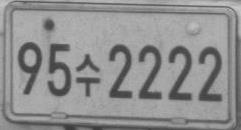2: (197, 45, 224, 102), (107, 43, 133, 99), (167, 44, 192, 100), (137, 44, 162, 99)
5: (47, 42, 72, 97)
9: (16, 40, 42, 95)
수: (74, 53, 100, 97)
